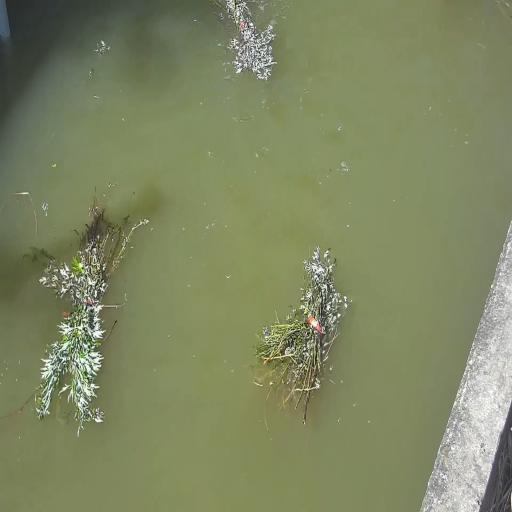twig: (18, 187, 148, 435), (252, 244, 348, 428), (212, 0, 279, 84)
